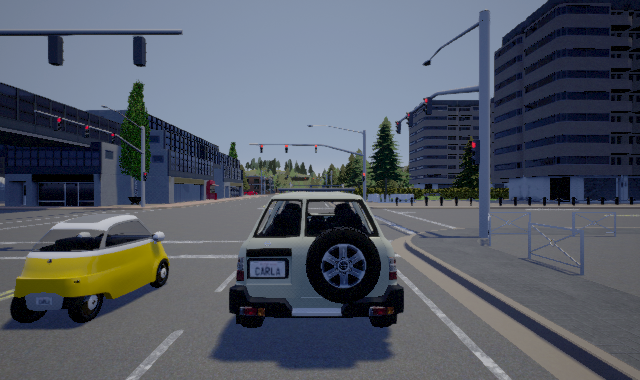traffic_light: (469, 140, 480, 165), (423, 97, 432, 115), (54, 117, 62, 131), (406, 112, 413, 127), (82, 125, 89, 138), (395, 121, 401, 134), (109, 133, 115, 144), (143, 172, 147, 181), (362, 173, 365, 182), (285, 144, 288, 153), (260, 144, 263, 153), (315, 145, 317, 153)
vehicle: (229, 184, 404, 328), (10, 214, 170, 323)
